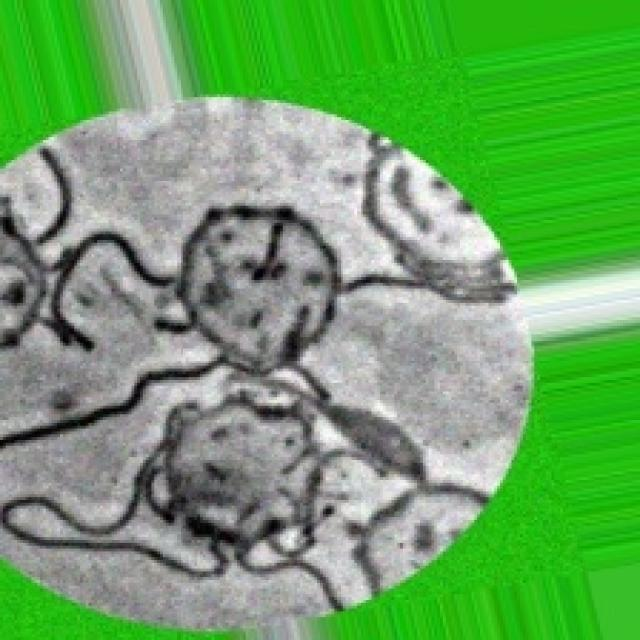Spiral_bacteria: (0, 94, 531, 617)
